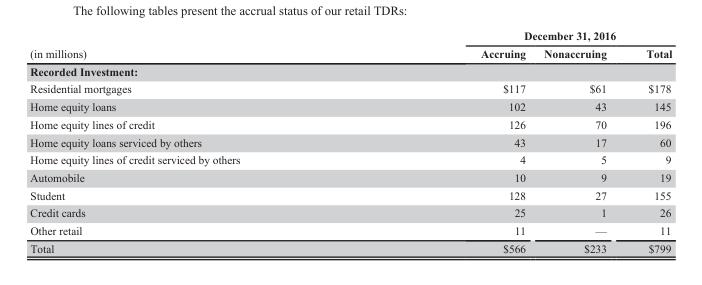table: (29, 29, 671, 254)
table column: (29, 29, 359, 254), (359, 29, 534, 254), (534, 29, 625, 254), (625, 29, 671, 254)
table column header: (29, 29, 671, 62)
table projected row header: (29, 62, 671, 79)
table row: (29, 44, 671, 62), (29, 79, 671, 97), (29, 97, 671, 115), (29, 132, 671, 150), (29, 150, 671, 168), (29, 168, 671, 186), (29, 203, 671, 221), (29, 221, 671, 239), (29, 62, 671, 79), (29, 115, 671, 132), (29, 186, 671, 203), (29, 29, 671, 44), (29, 239, 671, 254)
table spanning cell: (29, 29, 359, 62), (359, 29, 671, 44)
